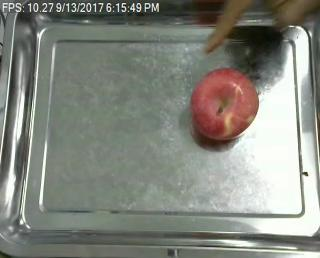apple: (190, 67, 260, 145)
